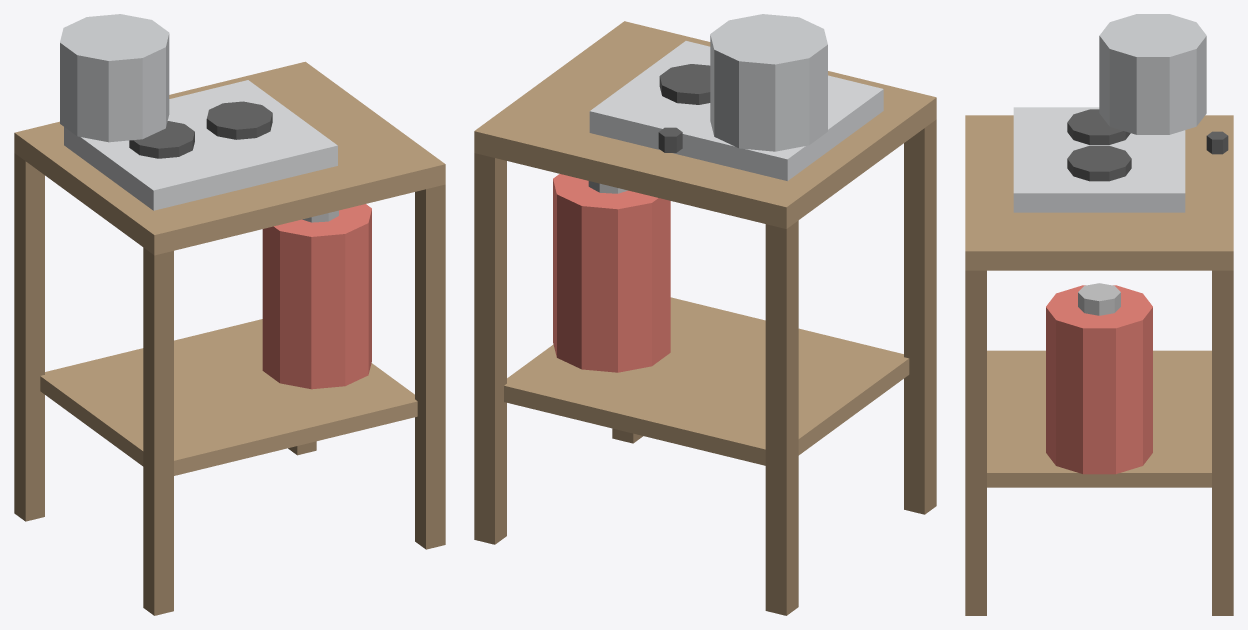
The model's file is gas-cooker-table.glb.
3 views of the same model, side by side, from view 1: azimuth 30°, elevation 25°; view 2: azimuth 150°, elevation 25°; view 3: azimuth 270°, elevation 25° (orthographic). The views are drawn at different scales.
Parts seen in each view (by area): view 1: gas-cooker-table_Cube.005, gas-cooker-table_Cube.004, gas-cooker-table_Cylinder, gas-cooker-table_Cube.006, gas-cooker-table_Cylinder.005, gas-cooker-table_Cube, gas-cooker-table_Cube.002, gas-cooker-table_Cube.001, gas-cooker-table_Cylinder.003, gas-cooker-table_Cylinder.002; view 2: gas-cooker-table_Cube.005, gas-cooker-table_Cube.004, gas-cooker-table_Cylinder, gas-cooker-table_Cylinder.005, gas-cooker-table_Cube.001, gas-cooker-table_Cube.006, gas-cooker-table_Cube.003, gas-cooker-table_Cube, gas-cooker-table_Cylinder.003; view 3: gas-cooker-table_Cube.004, gas-cooker-table_Cube.005, gas-cooker-table_Cylinder, gas-cooker-table_Cube.006, gas-cooker-table_Cylinder.005, gas-cooker-table_Cube.002, gas-cooker-table_Cube.003, gas-cooker-table_Cylinder.003, gas-cooker-table_Cylinder.002, gas-cooker-table_Cylinder.001, gas-cooker-table_Cylinder.004.
Boxes of the visible parts, x1=… form: gas-cooker-table_Cube.005: x1=40, y1=319, x2=417, y2=475; gas-cooker-table_Cube.004: x1=14, y1=61, x2=445, y2=255; gas-cooker-table_Cylinder: x1=262, y1=204, x2=371, y2=389; gas-cooker-table_Cube.006: x1=64, y1=80, x2=337, y2=210; gas-cooker-table_Cylinder.005: x1=60, y1=14, x2=169, y2=142; gas-cooker-table_Cube: x1=143, y1=247, x2=173, y2=615; gas-cooker-table_Cube.002: x1=415, y1=184, x2=445, y2=549; gas-cooker-table_Cube.001: x1=14, y1=153, x2=44, y2=521; gas-cooker-table_Cylinder.003: x1=206, y1=101, x2=272, y2=139; gas-cooker-table_Cylinder.002: x1=129, y1=121, x2=194, y2=158; gas-cooker-table_Cube.005: x1=504, y1=297, x2=909, y2=465; gas-cooker-table_Cube.004: x1=474, y1=21, x2=936, y2=228; gas-cooker-table_Cylinder: x1=553, y1=174, x2=670, y2=372; gas-cooker-table_Cylinder.005: x1=710, y1=14, x2=827, y2=151; gas-cooker-table_Cube.001: x1=765, y1=220, x2=798, y2=615; gas-cooker-table_Cube.006: x1=589, y1=41, x2=883, y2=180; gas-cooker-table_Cube.003: x1=474, y1=153, x2=506, y2=544; gas-cooker-table_Cube: x1=904, y1=119, x2=936, y2=514; gas-cooker-table_Cylinder.003: x1=659, y1=64, x2=710, y2=104; gas-cooker-table_Cube.004: x1=965, y1=115, x2=1233, y2=270; gas-cooker-table_Cube.005: x1=987, y1=350, x2=1211, y2=487; gas-cooker-table_Cylinder: x1=1046, y1=285, x2=1152, y2=474; gas-cooker-table_Cube.006: x1=1013, y1=107, x2=1185, y2=212; gas-cooker-table_Cylinder.005: x1=1099, y1=14, x2=1206, y2=134; gas-cooker-table_Cube.002: x1=965, y1=270, x2=986, y2=615; gas-cooker-table_Cube.003: x1=1212, y1=270, x2=1233, y2=615; gas-cooker-table_Cylinder.003: x1=1067, y1=145, x2=1131, y2=181; gas-cooker-table_Cylinder.002: x1=1067, y1=109, x2=1130, y2=144; gas-cooker-table_Cylinder.001: x1=1078, y1=283, x2=1120, y2=315; gas-cooker-table_Cylinder.004: x1=1206, y1=131, x2=1228, y2=154.
Bounding box in the file's own units: 0.6 × 0.97 × 0.5.
